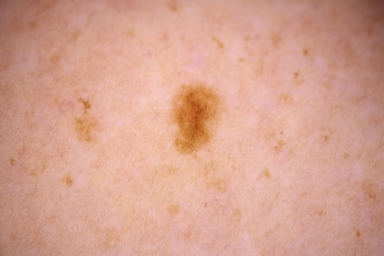nevus: (172, 89, 216, 154)
